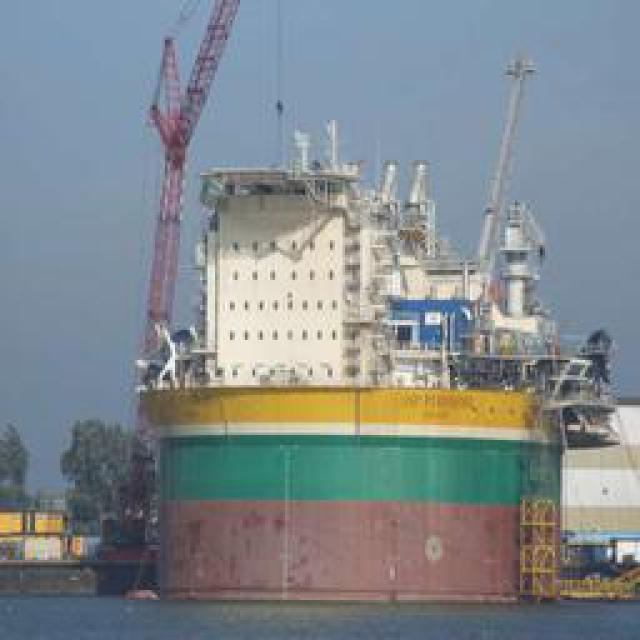Ship: (135, 15, 630, 618)
